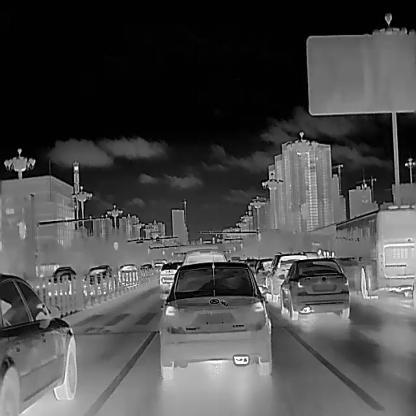car: (159, 261, 271, 377), (0, 272, 75, 415), (332, 203, 416, 297), (279, 258, 349, 319), (265, 254, 308, 301), (82, 264, 114, 294), (47, 265, 75, 293), (159, 259, 183, 291), (117, 264, 139, 284), (138, 263, 153, 277)
